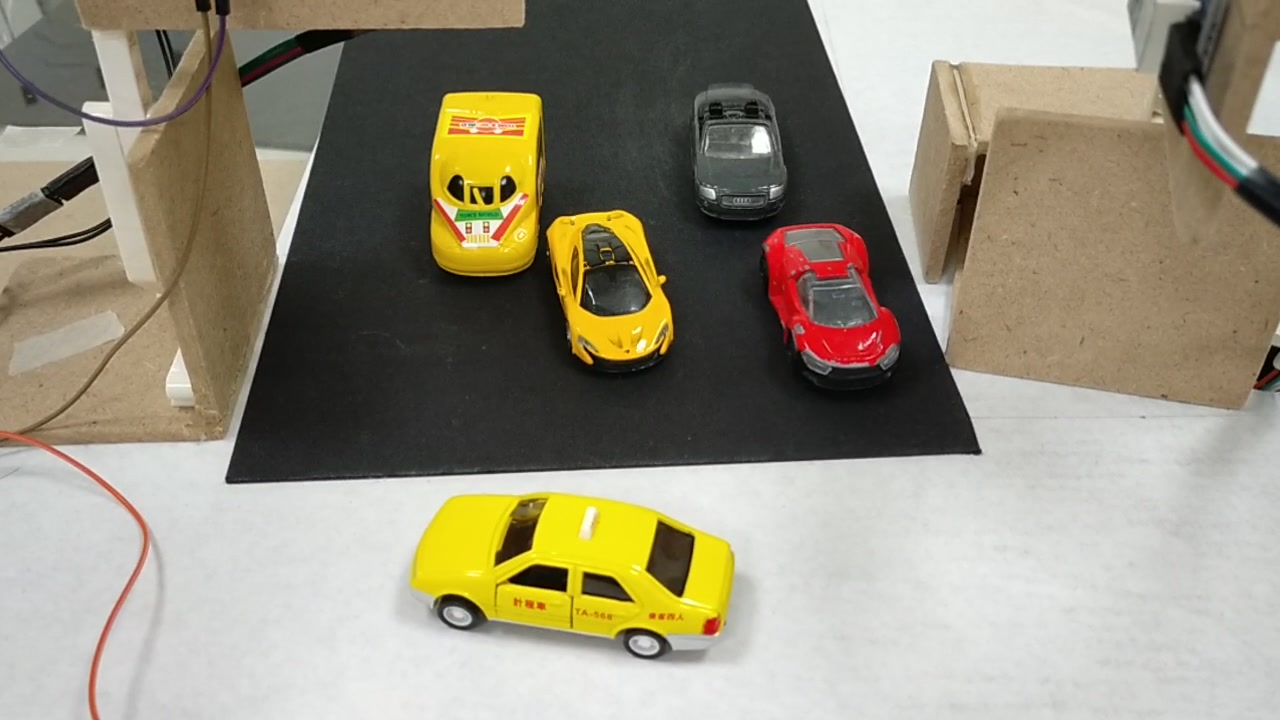car: (406, 491, 737, 672), (766, 222, 903, 390), (545, 214, 682, 374), (691, 87, 792, 224)
